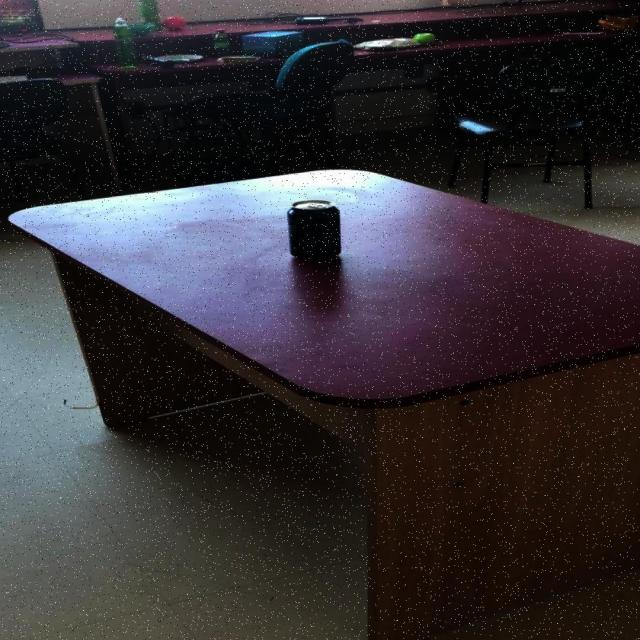Tonic: (285, 199, 340, 259), (111, 17, 137, 68), (211, 28, 228, 55)
